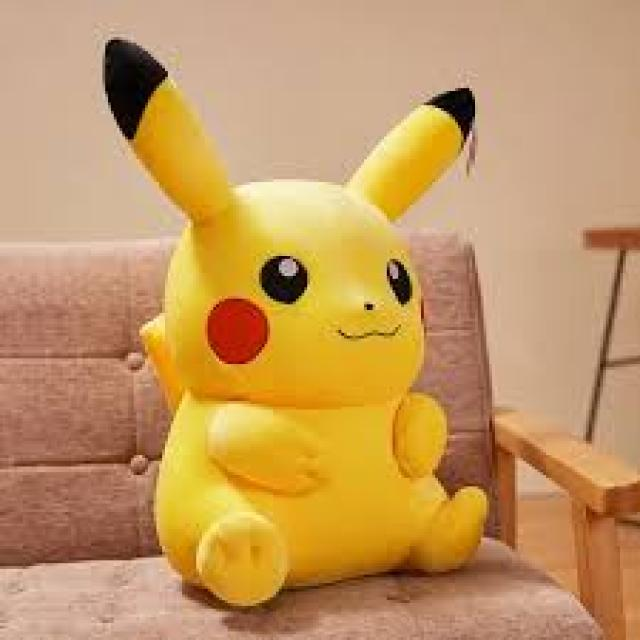pikachu: (98, 36, 514, 602)
